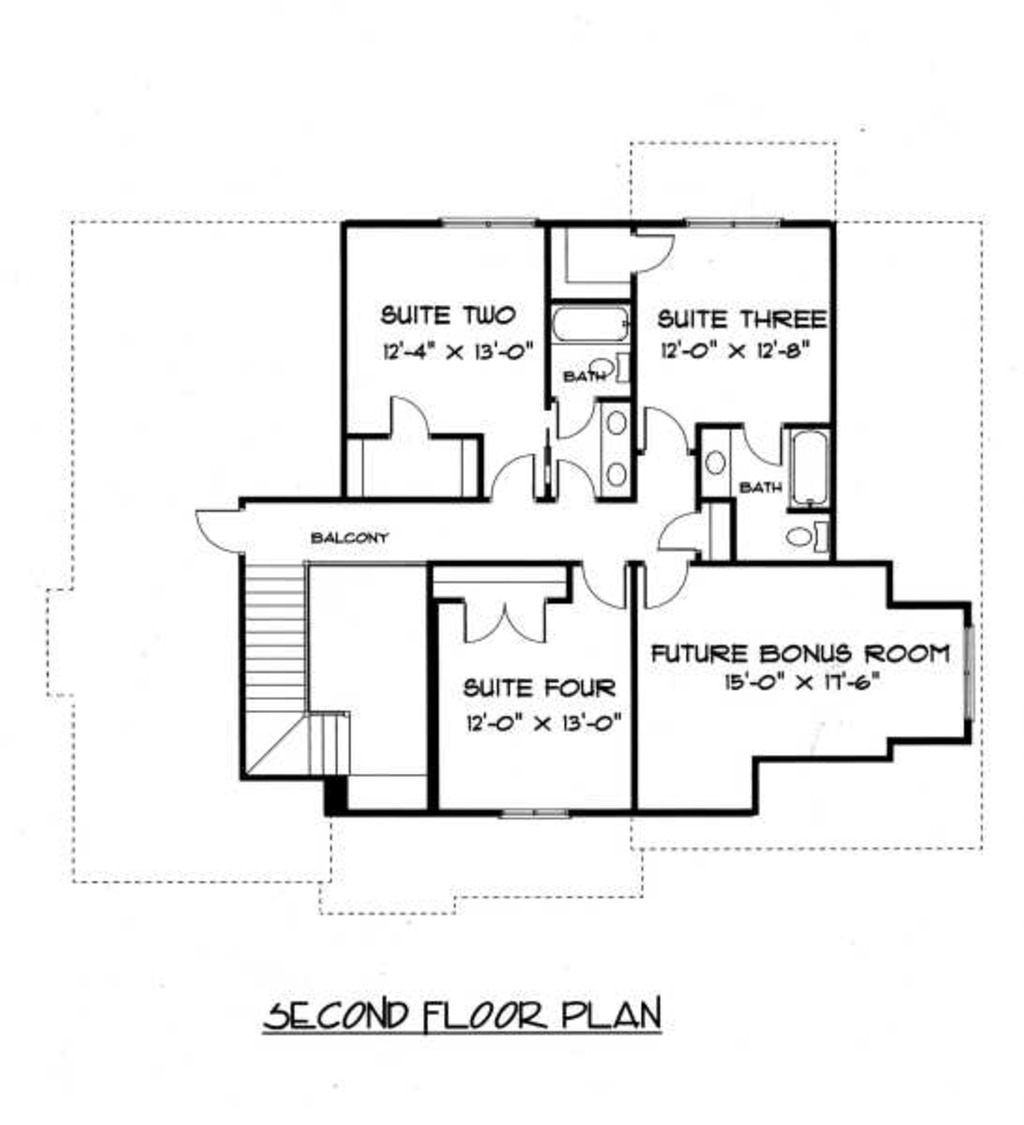door: (463, 593, 554, 652), (193, 502, 254, 565), (631, 559, 693, 617), (738, 412, 794, 472), (638, 403, 691, 466), (384, 389, 450, 437), (487, 445, 538, 498), (575, 559, 626, 610), (547, 389, 596, 442), (638, 230, 682, 287), (656, 507, 707, 556), (559, 454, 603, 498)
large_sink: (779, 510, 836, 559), (586, 344, 635, 391)
small_sink: (598, 396, 636, 500)
stairs: (243, 561, 365, 782)
window: (952, 616, 984, 724), (428, 209, 542, 235), (682, 209, 779, 237), (491, 800, 568, 826)
